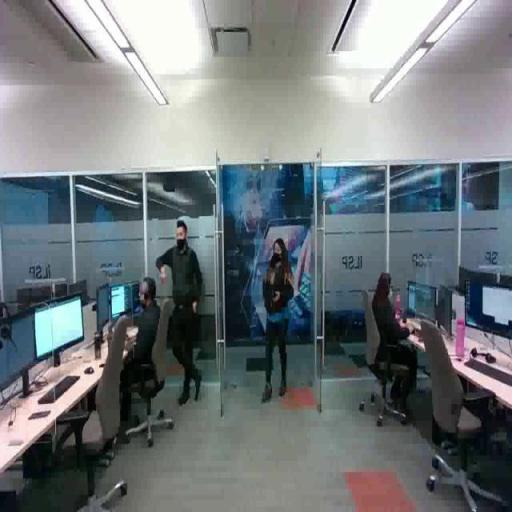person: (99, 273, 174, 442), (367, 267, 435, 440), (156, 221, 209, 408), (263, 239, 296, 404)
